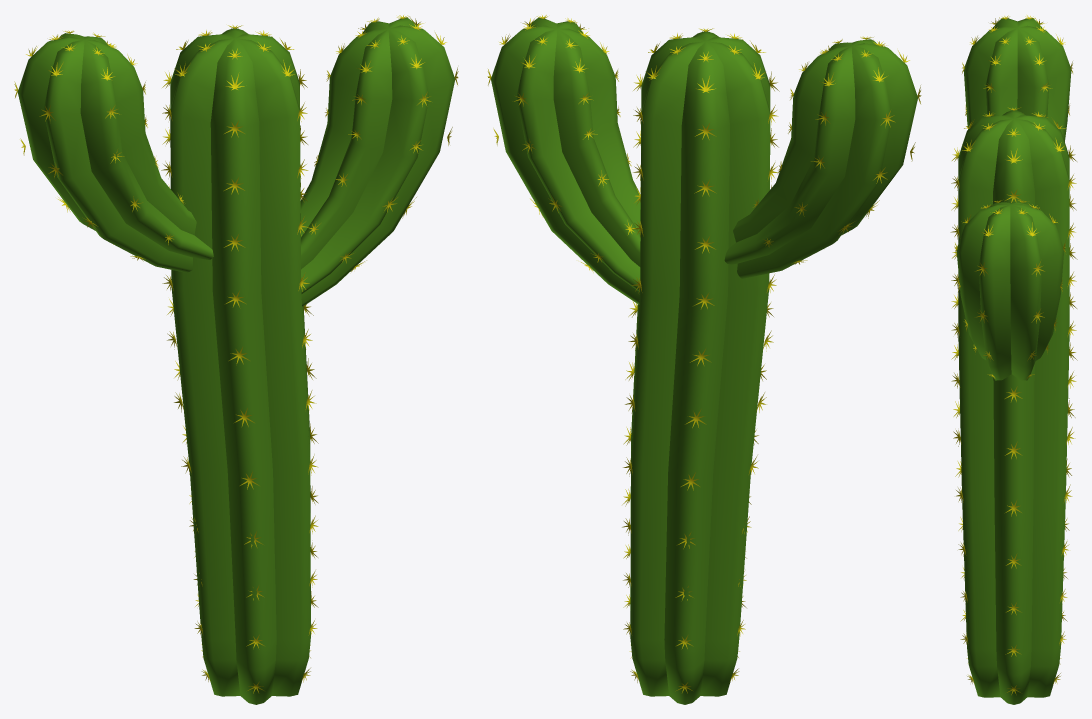
Rendered from cactus2.fbx.
3 renders of one model, left to right at view 1: azimuth 30°, elevation 25°; view 2: azimuth 150°, elevation 25°; view 3: azimuth 270°, elevation 25°, orthographic. The views are drawn at different scales.
Parts seen in each view (by area): view 1: Cactus2; view 2: Cactus2; view 3: Cactus2.
Boxes of the visible parts, x1,y1,x2,y2 form: Cactus2: [14, 15, 458, 704]; Cactus2: [487, 15, 921, 704]; Cactus2: [950, 15, 1077, 704].
Bounding box in the file's own units: 141 × 224 × 43.79.
